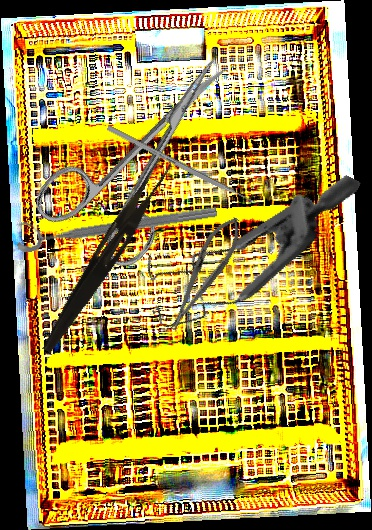Dressing Forceps: (38, 153, 174, 360)
Fixation Ring: (13, 190, 219, 254)
Iris Scissors: (27, 25, 271, 283)
Needle Holder: (158, 210, 250, 337)
Pusher: (106, 124, 268, 212)
Speculum: (123, 111, 362, 377)
